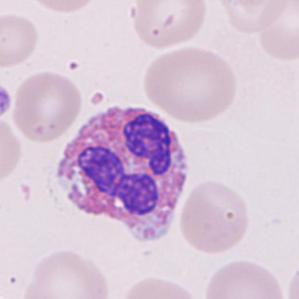Eosinophil: (46, 95, 198, 250)
Platelets: (0, 81, 14, 120)
RBC: (139, 43, 241, 125), (176, 177, 254, 257), (10, 68, 84, 144), (19, 245, 113, 299), (128, 0, 209, 52), (201, 256, 288, 299), (255, 0, 299, 64), (213, 0, 292, 35), (0, 10, 41, 70), (118, 272, 202, 299), (0, 113, 24, 188), (24, 0, 103, 15), (285, 256, 299, 299)
